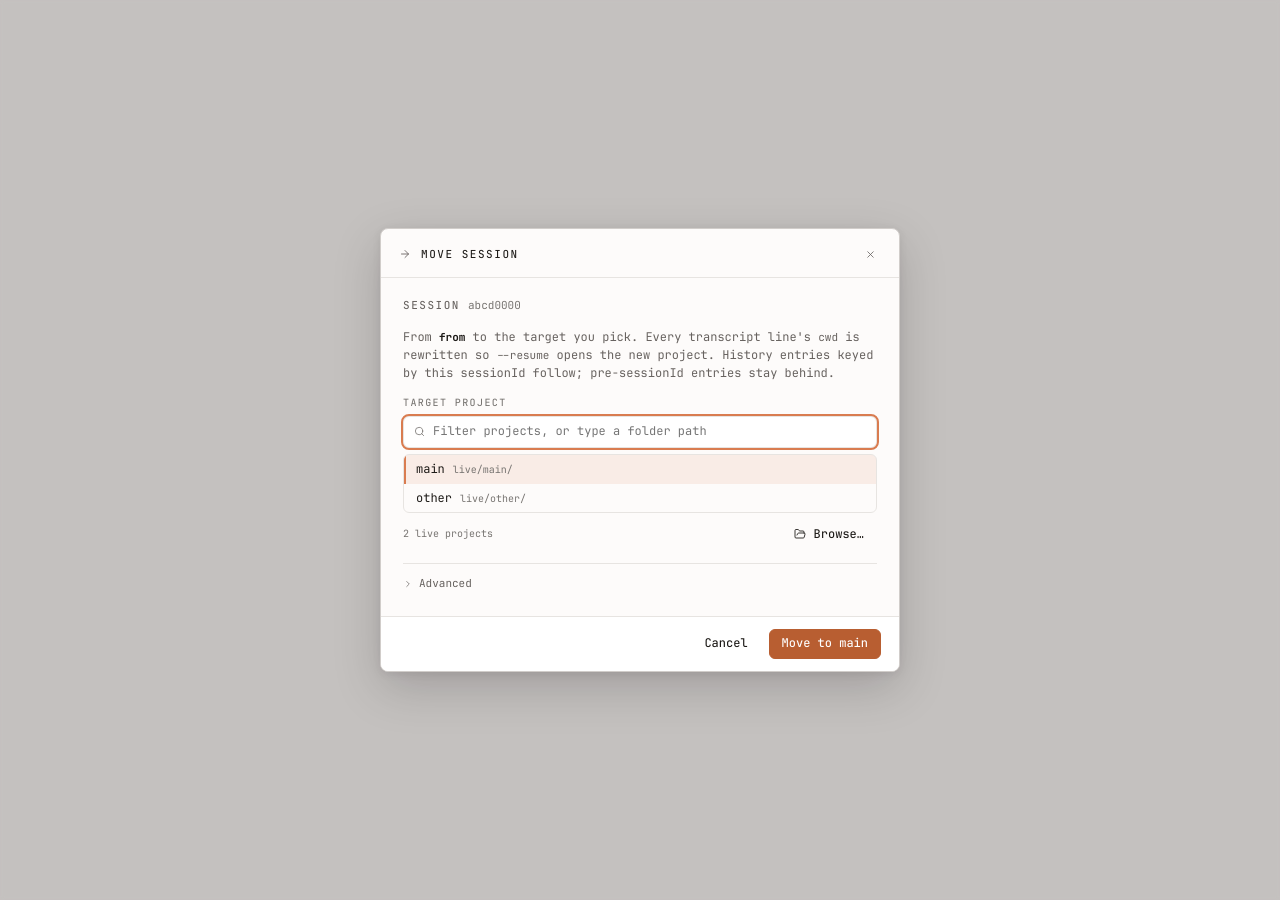
Test: MoveSessionModal › offers a typed absolute path as a target and says it will be created
Type "/brand/new" into the dropdown.
click(650, 432); type("/brand/new")  # box [433,423,866,440]
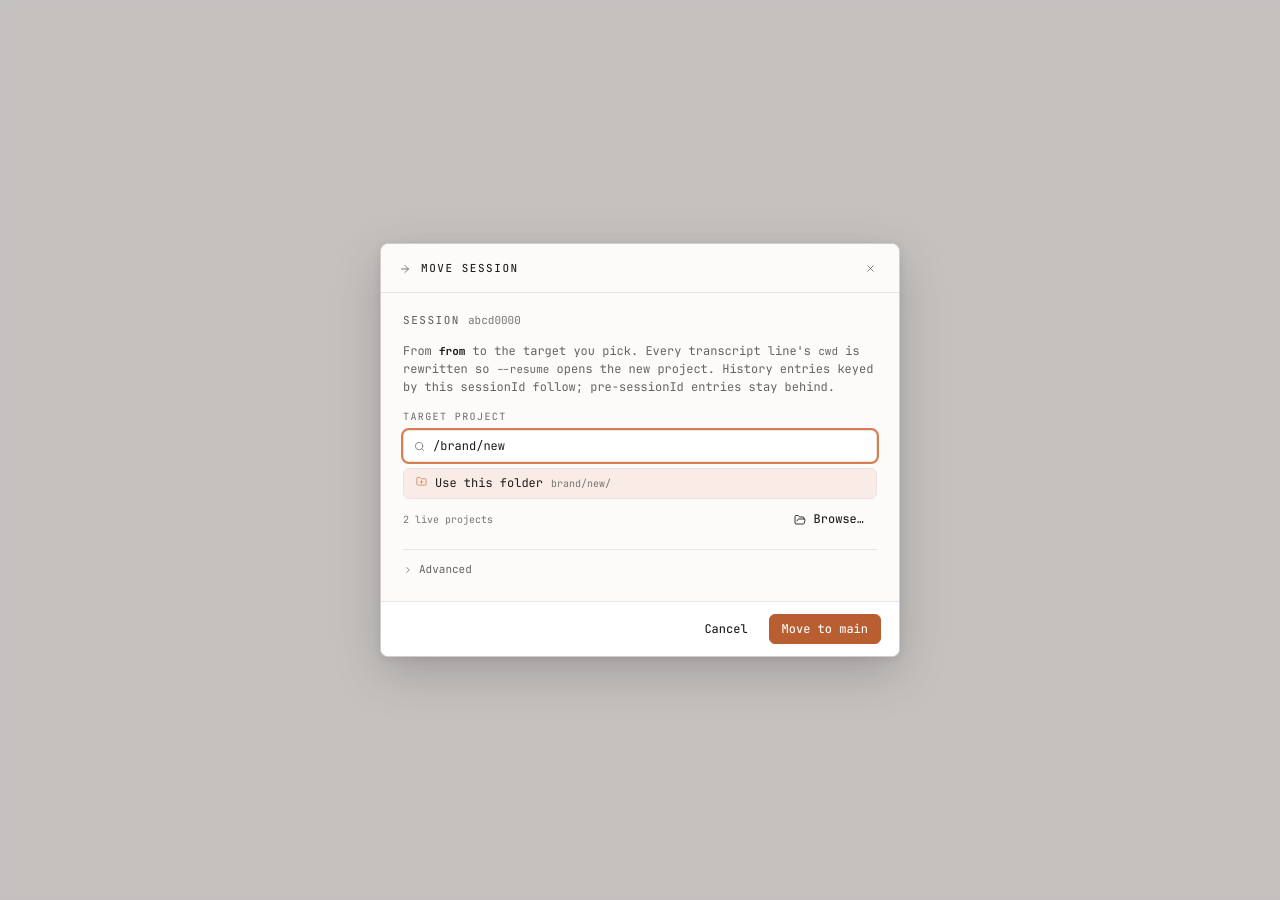
Click the option "Use this folder /brand/new".
click(489, 483)  # box [404,469,876,498]
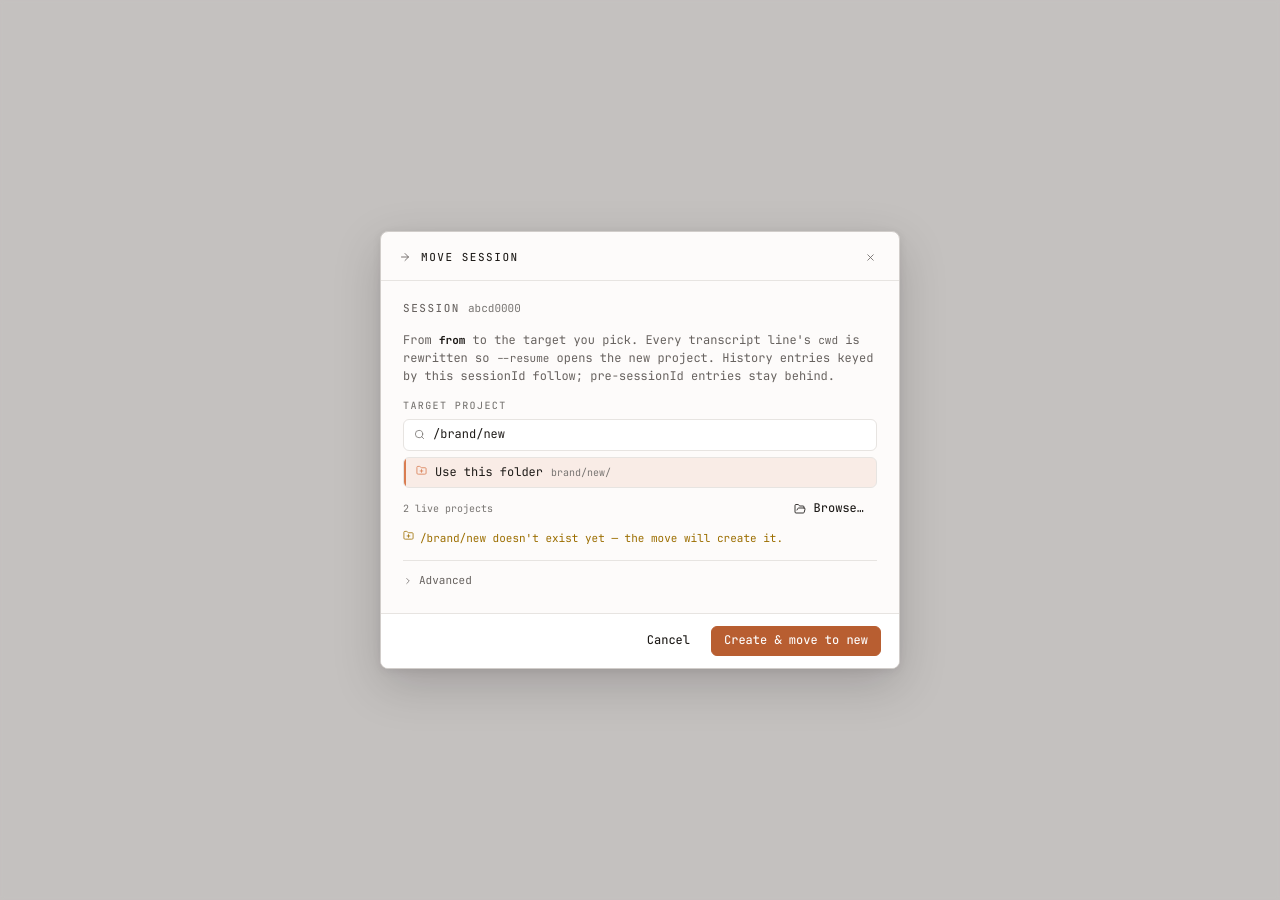
Expected: the button "Create & move to new" is enabled, [711,626,881,656]
Now the text "/brand/new doesn't exist yet — the move will create it." is shown, box [420,531,783,545]
